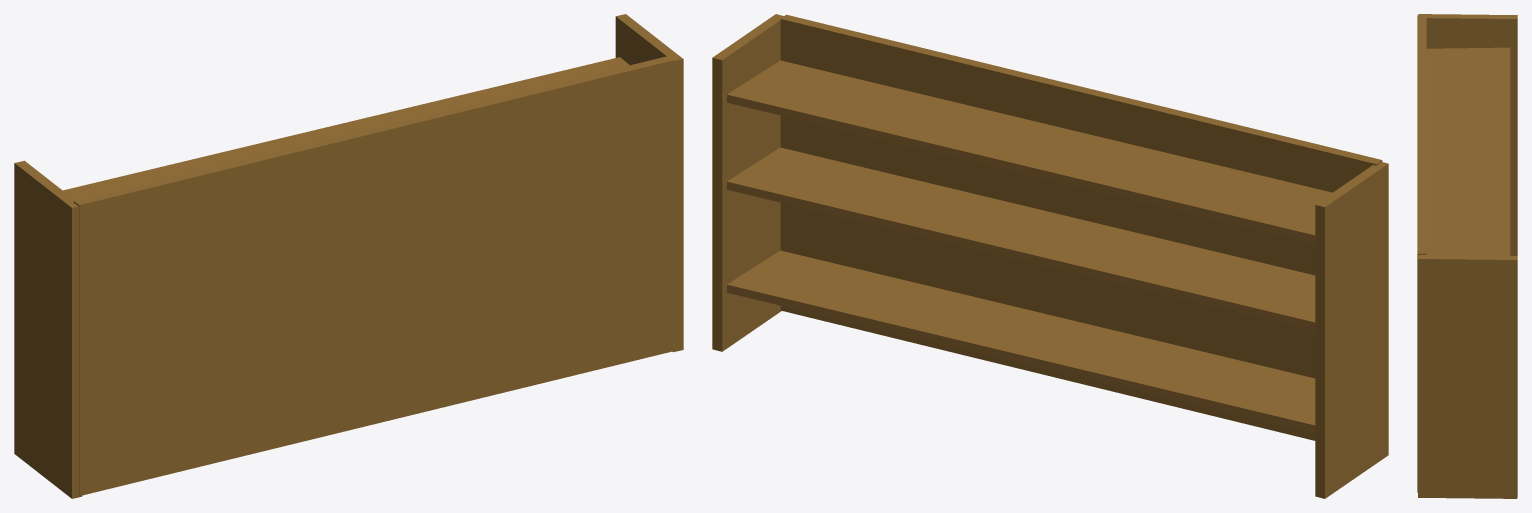
Rendered from estante individual.glb.
3 renders of one model, left to right at view 1: azimuth 30°, elevation 25°; view 2: azimuth 150°, elevation 25°; view 3: azimuth 270°, elevation 25°, orthographic. The views are drawn at different scales.
Visible parts, largest first — view 1: Cubo.004; view 2: Cubo.004; view 3: Cubo.004.
Part boxes in pixels (box(x1,y1,x2,y2)): Cubo.004: box(14, 14, 683, 498); Cubo.004: box(712, 14, 1388, 498); Cubo.004: box(1417, 14, 1517, 498).
Size of the model in its own units: 8.22 by 3.74 by 1.42.
